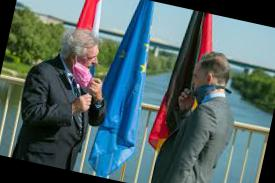mask_weared_incorrect: (81, 50, 103, 89), (184, 67, 209, 96)
